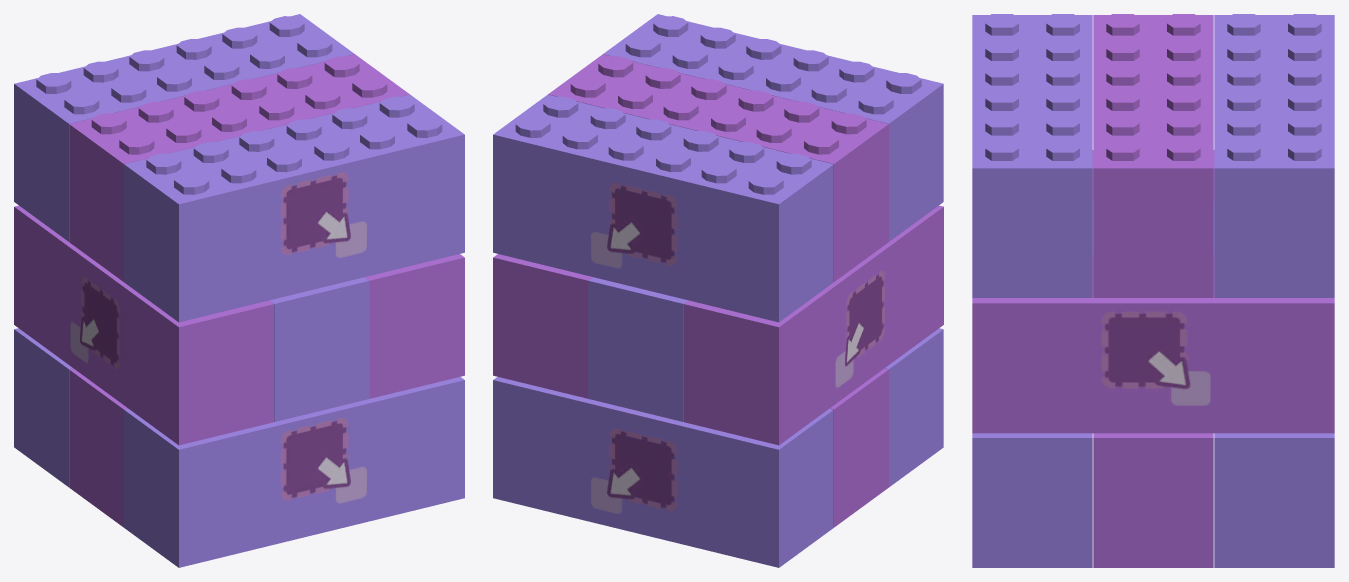
Rendered from InteractableBlock3x3Shrink_Hovered.fbx.
3 renders of one model, left to right at view 1: azimuth 30°, elevation 25°; view 2: azimuth 150°, elevation 25°; view 3: azimuth 270°, elevation 25°, orthographic. The views are drawn at different scales.
Parts seen in each view (by area): view 1: Cube.035; view 2: Cube.035; view 3: Cube.035.
Part boxes in pixels (x1,y1,x2,y2): Cube.035: (14,14,464,567); Cube.035: (493,14,943,567); Cube.035: (972,14,1334,567).
Bounding box in the file's own units: 457 × 566 × 456.
